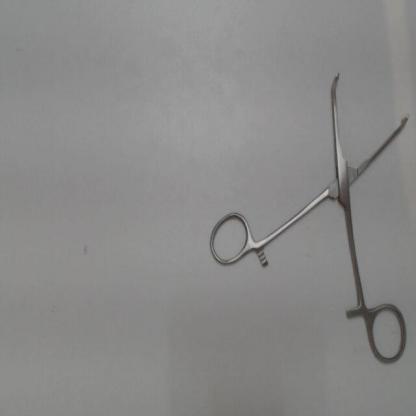Allis Tissue Forceps: (204, 66, 416, 373)
